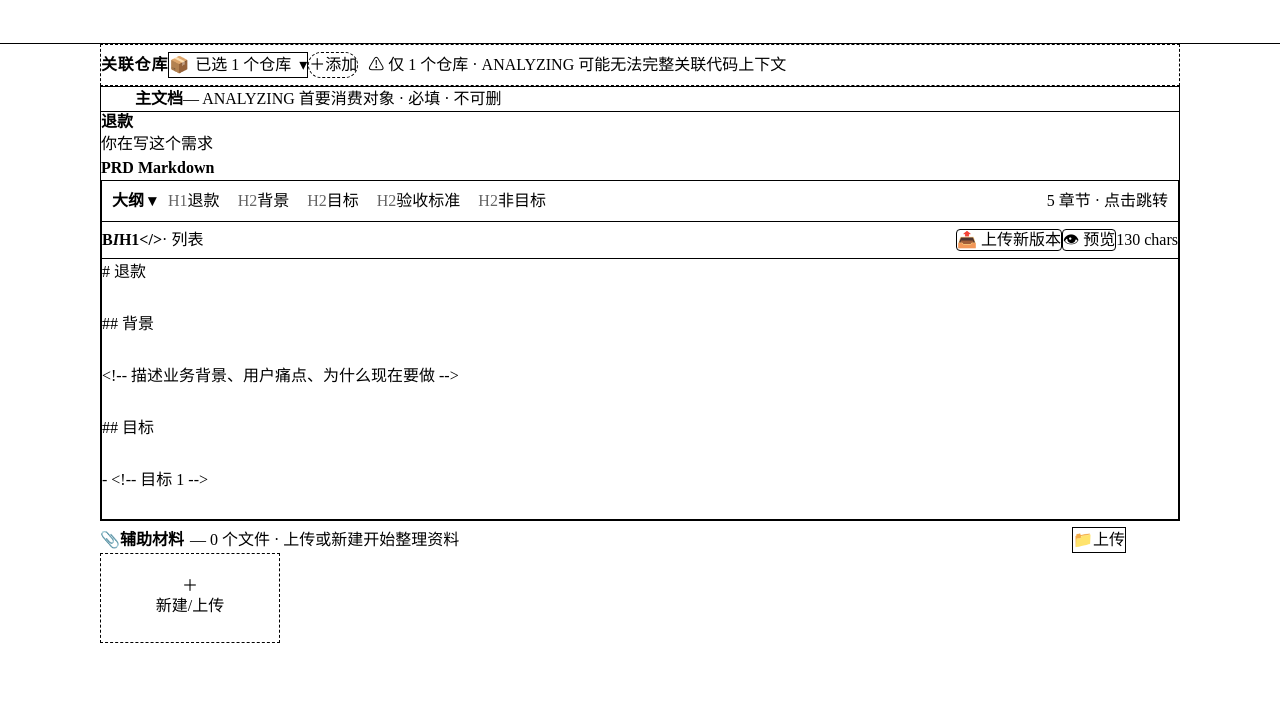
it: DraftingZone · 仓库底部条 + 软警告 (issue 08) › 验收 #7 同步性:展开态 chip data-selected 反映 selectedRepoNames(issue 09 · 字段跟改 issue 06)
# 默认折叠 → 展开
Step 1. Click the button with test id "drafting-repo-bar-summary" → (238, 65), box [168, 52, 308, 78]
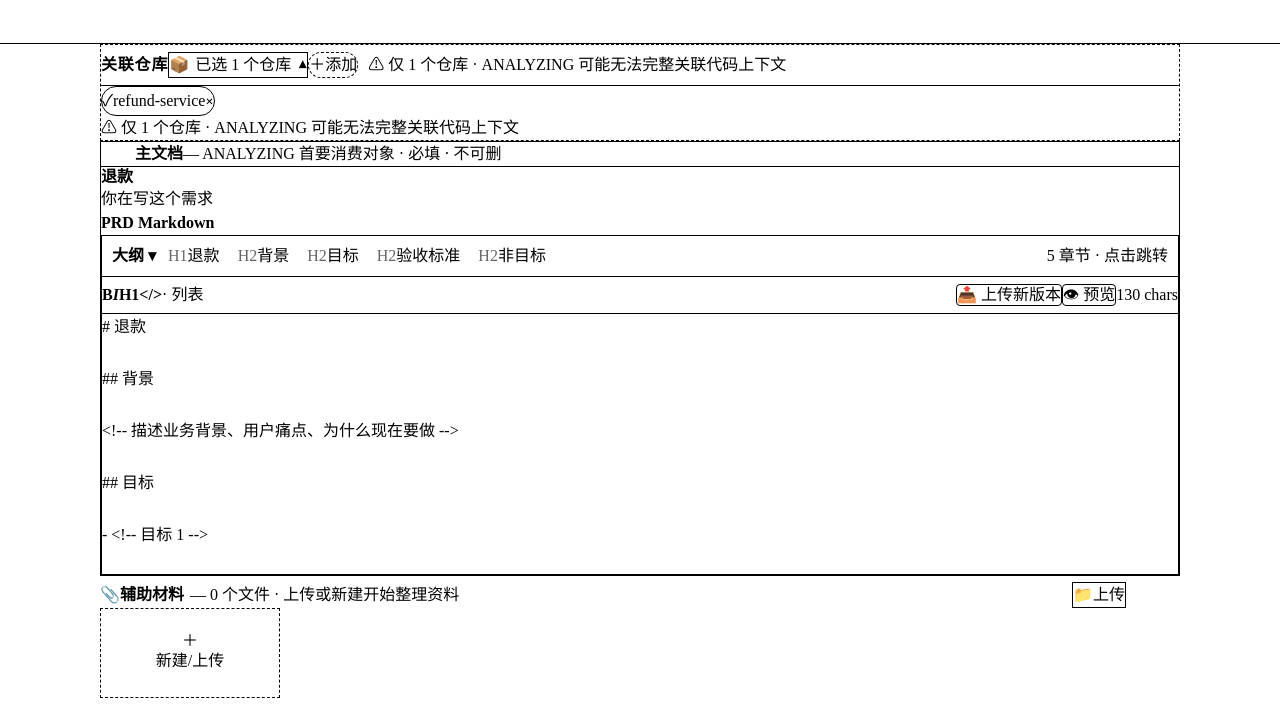
Result: the number of elements with test id "drafting-repo-chip" is 1 at [101, 86, 215, 116]
# 点 × refund-service → dialog 打开 → confirm → 0 个仓库,bar 进入空态
Step 2. Click the button with test id "drafting-repo-chip-detach" → (210, 101), box [205, 94, 214, 108]
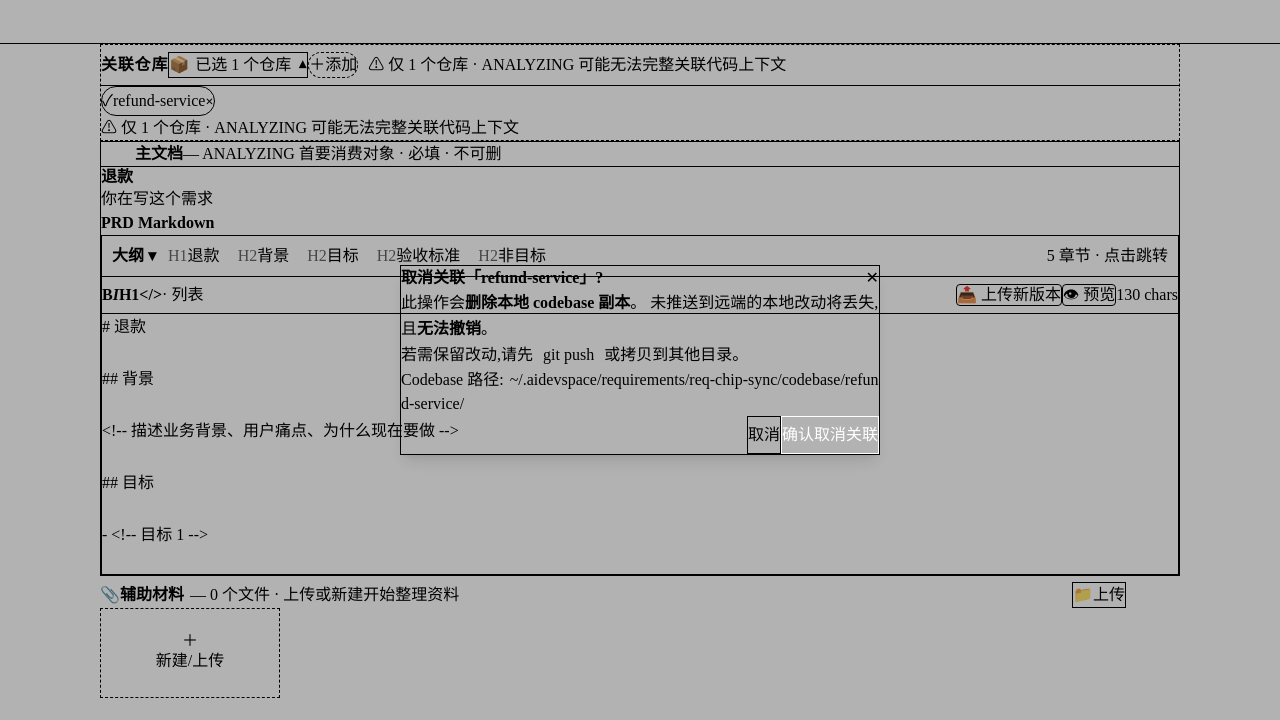
Result: the dialog with test id "detach-codebase-dialog" is shown
Step 3. Click the button with test id "detach-codebase-dialog-confirm" → (830, 435), box [781, 416, 879, 454]
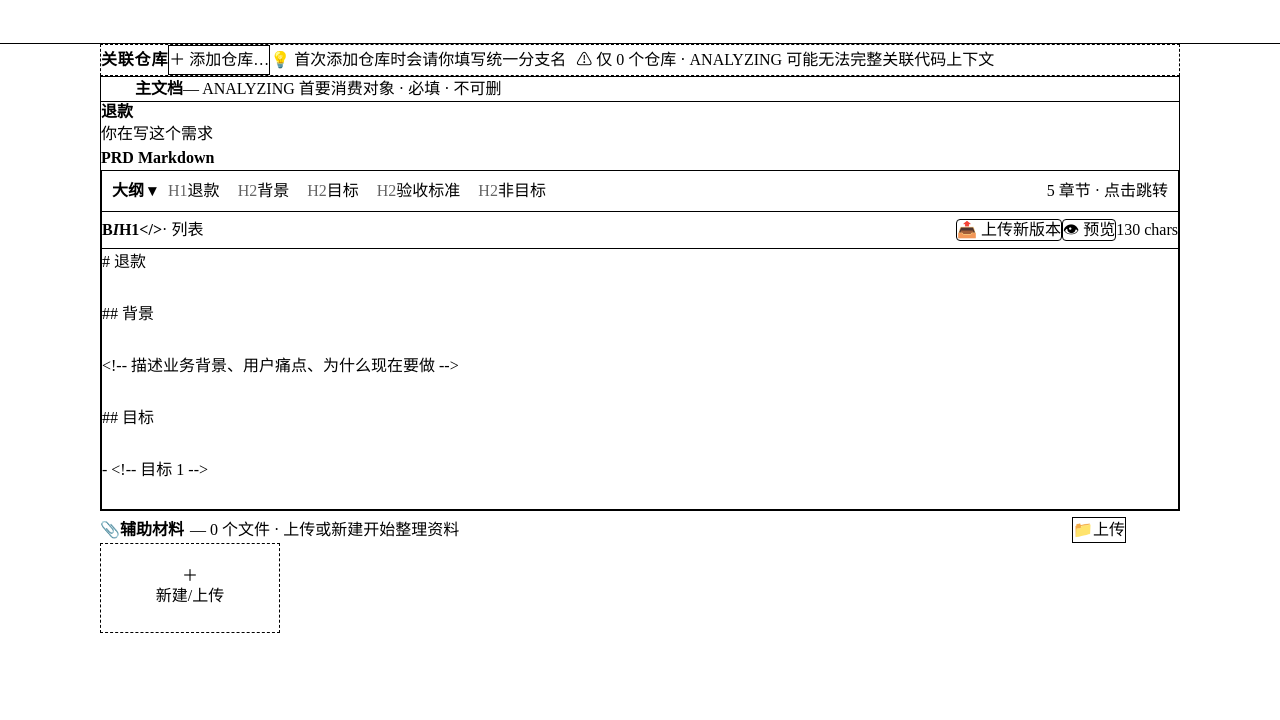
Result: the dialog with test id "detach-codebase-dialog" is gone
Result: the element with test id "drafting-repo-chip" is gone
